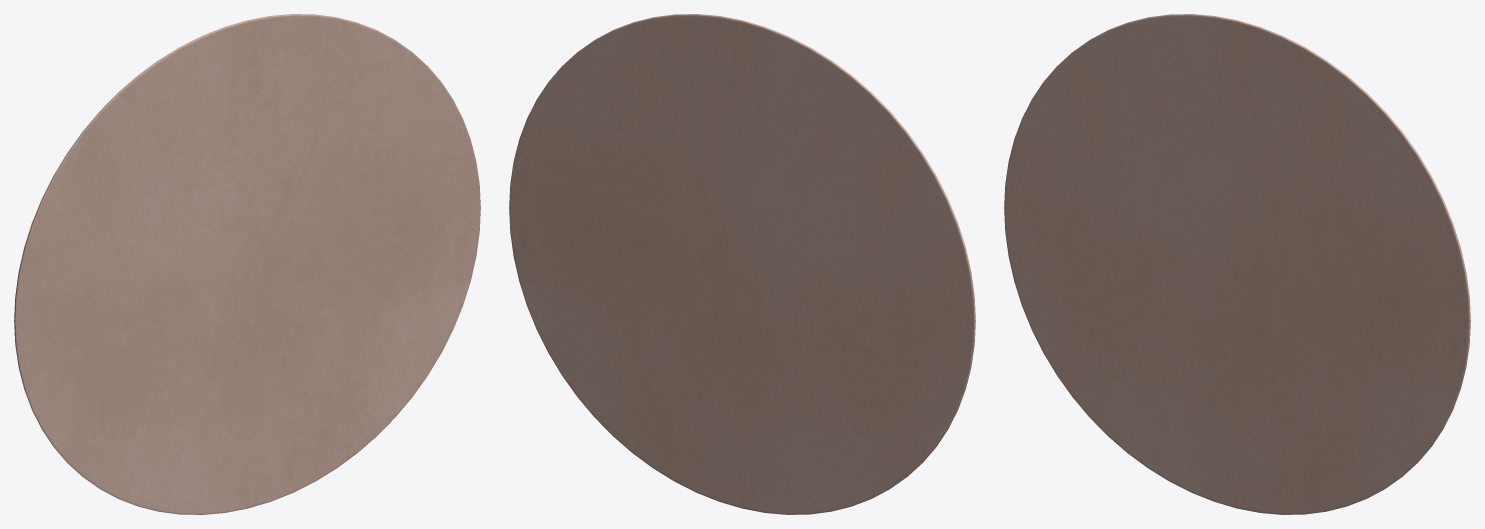
Rendered from button_zenit625.fbx.
The picture shows the model from 3 angles, left to right: view 1: azimuth 30°, elevation 25°; view 2: azimuth 150°, elevation 25°; view 3: azimuth 330°, elevation 25°; orthographic projection.
Visible parts, largest first — view 1: button_zenit625; view 2: button_zenit625; view 3: button_zenit625.
Part boxes in pixels (x1=…): button_zenit625: x1=14, y1=14, x2=480, y2=514; button_zenit625: x1=509, y1=14, x2=975, y2=514; button_zenit625: x1=1004, y1=14, x2=1470, y2=514.
Bounding box in the file's own units: 0.4 × 0.4 × 0.002.
Materials: 1 (1 with a texture image).
